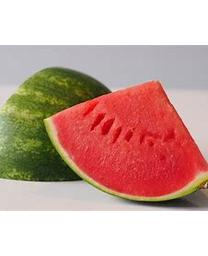watermelon: (42, 77, 206, 203), (0, 65, 119, 183)
